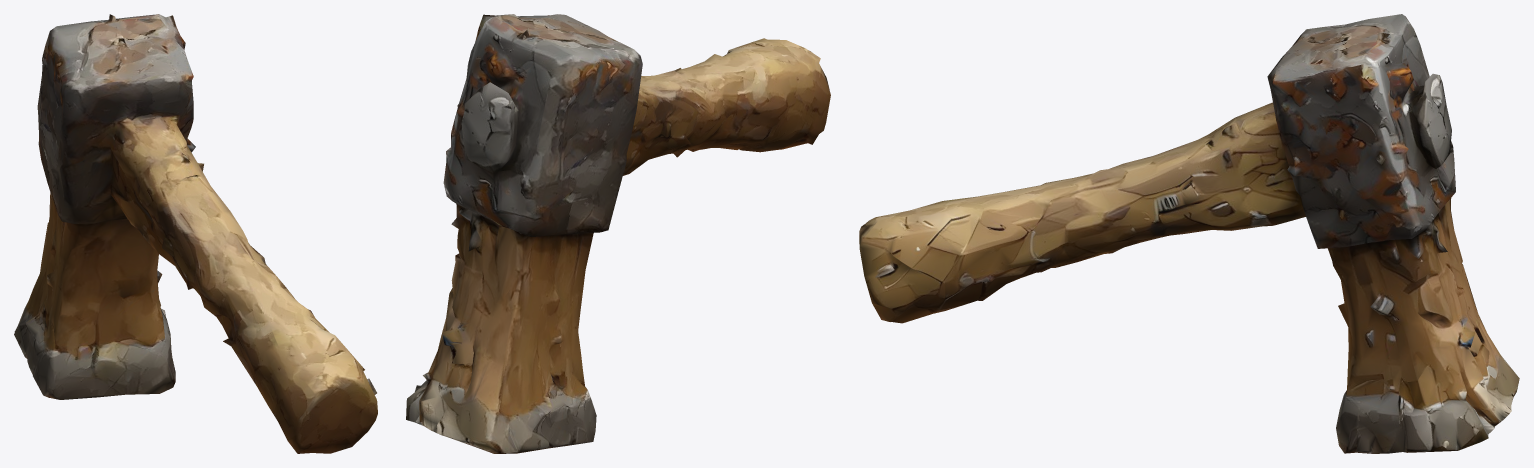
The model's file is w_axe.glb.
3 views of the same model, side by side, from view 1: azimuth 30°, elevation 25°; view 2: azimuth 150°, elevation 25°; view 3: azimuth 270°, elevation 25° (orthographic). The views are drawn at different scales.
Parts seen in each view (by area): view 1: tripo_node_93e30b9d-1edc-4a7d-bda9-5d788239b5d2; view 2: tripo_node_93e30b9d-1edc-4a7d-bda9-5d788239b5d2; view 3: tripo_node_93e30b9d-1edc-4a7d-bda9-5d788239b5d2.
Boxes of the visible parts, bbox=[...] form: tripo_node_93e30b9d-1edc-4a7d-bda9-5d788239b5d2: bbox=[14, 14, 377, 453]; tripo_node_93e30b9d-1edc-4a7d-bda9-5d788239b5d2: bbox=[406, 14, 830, 453]; tripo_node_93e30b9d-1edc-4a7d-bda9-5d788239b5d2: bbox=[859, 14, 1519, 453].
Bounding box in the file's own units: 0.2904 × 0.6674 × 1.
Materials: 1 (1 with a texture image).
